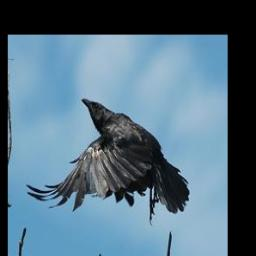Crow: (22, 95, 187, 227)
